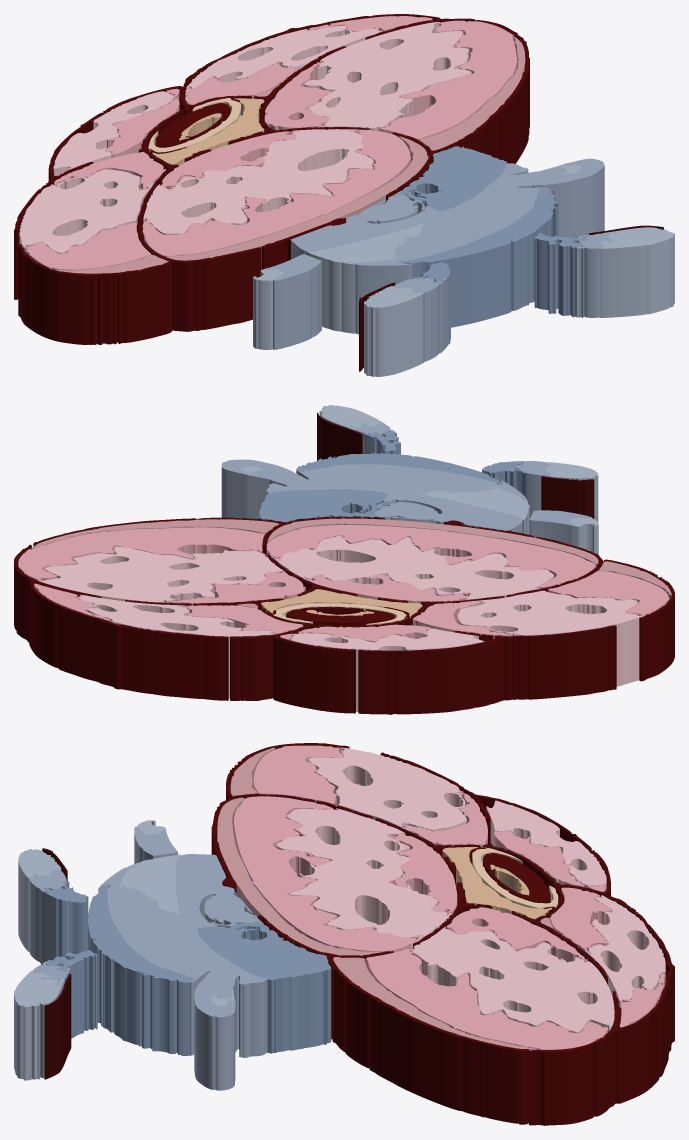
3 renders of one model, top to bottom at view 1: azimuth 30°, elevation 25°; view 2: azimuth 150°, elevation 25°; view 3: azimuth 270°, elevation 25°, orthographic. The views are drawn at different scales.
Parts seen in each view (by area): view 1: imagetostl_mesh50, imagetostl_mesh31, imagetostl_mesh1, imagetostl_mesh3, imagetostl_mesh11, imagetostl_mesh72, imagetostl_mesh13, imagetostl_mesh5, imagetostl_mesh52, imagetostl_mesh88, imagetostl_mesh30, imagetostl_mesh90 (+40 smaller); view 2: imagetostl_mesh46, imagetostl_mesh42, imagetostl_mesh31, imagetostl_mesh1, imagetostl_mesh44, imagetostl_mesh3, imagetostl_mesh11, imagetostl_mesh13, imagetostl_mesh5, imagetostl_mesh71, imagetostl_mesh7, imagetostl_mesh15 (+40 smaller); view 3: imagetostl_mesh40, imagetostl_mesh31, imagetostl_mesh1, imagetostl_mesh42, imagetostl_mesh3, imagetostl_mesh11, imagetostl_mesh13, imagetostl_mesh72, imagetostl_mesh5, imagetostl_mesh30, imagetostl_mesh70, imagetostl_mesh71 (+39 smaller).
Boxes of the visible parts, <box> form: imagetostl_mesh50: <box>18,245,171,344</box>; imagetostl_mesh31: <box>291,158,604,265</box>; imagetostl_mesh1: <box>143,129,373,233</box>; imagetostl_mesh3: <box>304,22,471,127</box>; imagetostl_mesh11: <box>142,130,410,255</box>; imagetostl_mesh72: <box>404,190,558,327</box>; imagetostl_mesh13: <box>380,20,517,138</box>; imagetostl_mesh5: <box>19,169,154,252</box>; imagetostl_mesh52: <box>138,232,261,331</box>; imagetostl_mesh88: <box>600,229,674,317</box>; imagetostl_mesh30: <box>291,163,604,334</box>; imagetostl_mesh90: <box>364,294,423,376</box>; imagetostl_mesh46: <box>358,626,616,714</box>; imagetostl_mesh42: <box>14,547,228,700</box>; imagetostl_mesh31: <box>221,459,526,530</box>; imagetostl_mesh1: <box>270,536,553,599</box>; imagetostl_mesh44: <box>230,609,355,713</box>; imagetostl_mesh3: <box>38,546,284,601</box>; imagetostl_mesh11: <box>266,525,595,587</box>; imagetostl_mesh13: <box>18,527,264,579</box>; imagetostl_mesh5: <box>457,590,644,635</box>; imagetostl_mesh71: <box>258,489,388,521</box>; imagetostl_mesh7: <box>79,594,273,636</box>; imagetostl_mesh15: <box>548,570,669,614</box>; imagetostl_mesh40: <box>257,917,529,1124</box>; imagetostl_mesh31: <box>98,854,267,1017</box>; imagetostl_mesh1: <box>276,808,451,943</box>; imagetostl_mesh42: <box>529,914,674,1125</box>; imagetostl_mesh3: <box>412,926,614,1031</box>; imagetostl_mesh11: <box>234,796,420,951</box>; imagetostl_mesh13: <box>366,949,607,1049</box>; imagetostl_mesh72: <box>88,887,189,1055</box>; imagetostl_mesh5: <box>308,747,466,833</box>; imagetostl_mesh30: <box>98,878,267,1090</box>; imagetostl_mesh70: <box>234,926,331,1053</box>; imagetostl_mesh71: <box>197,916,331,980</box>.
Size of the model in its own units: 90.4 by 10 by 81.62.
